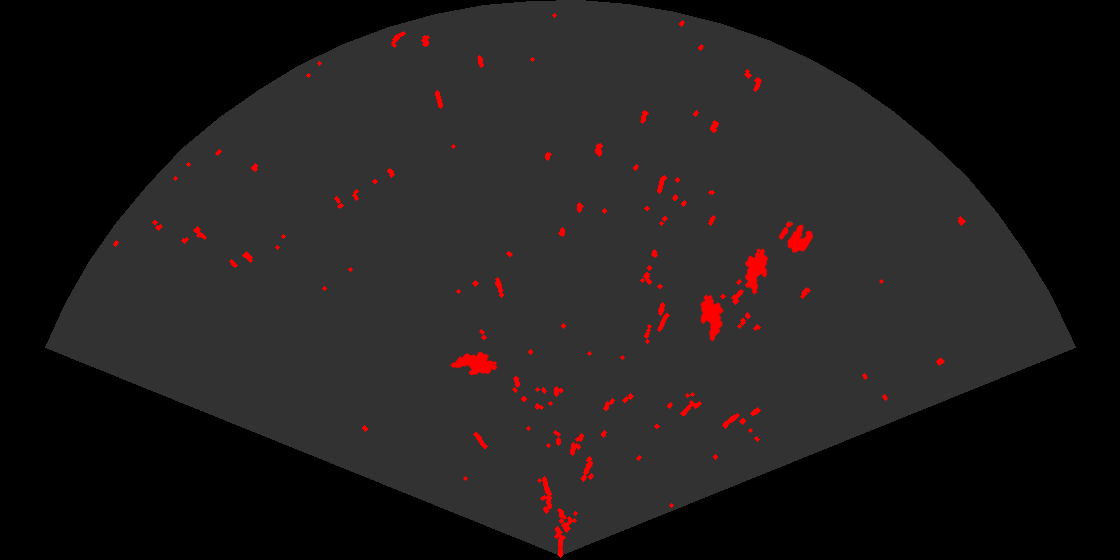AUV: (449, 350, 499, 377), (699, 293, 725, 343), (744, 247, 769, 296)
ball: (777, 220, 815, 255)
